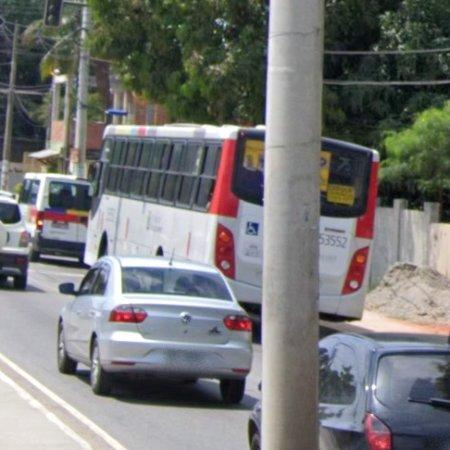buses: (320, 138, 380, 319)
